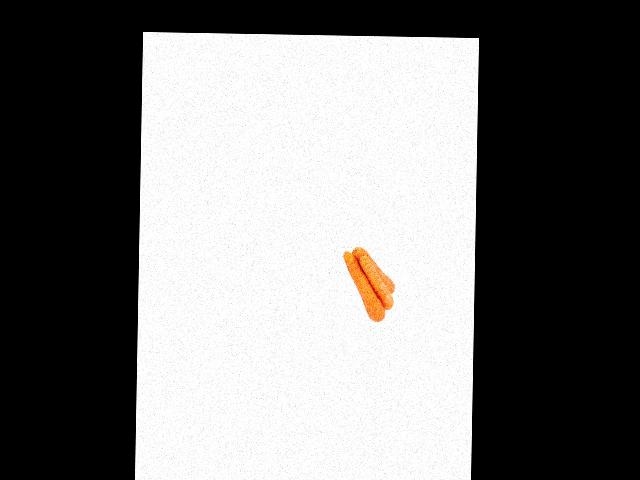carrot: (343, 253, 386, 322)
